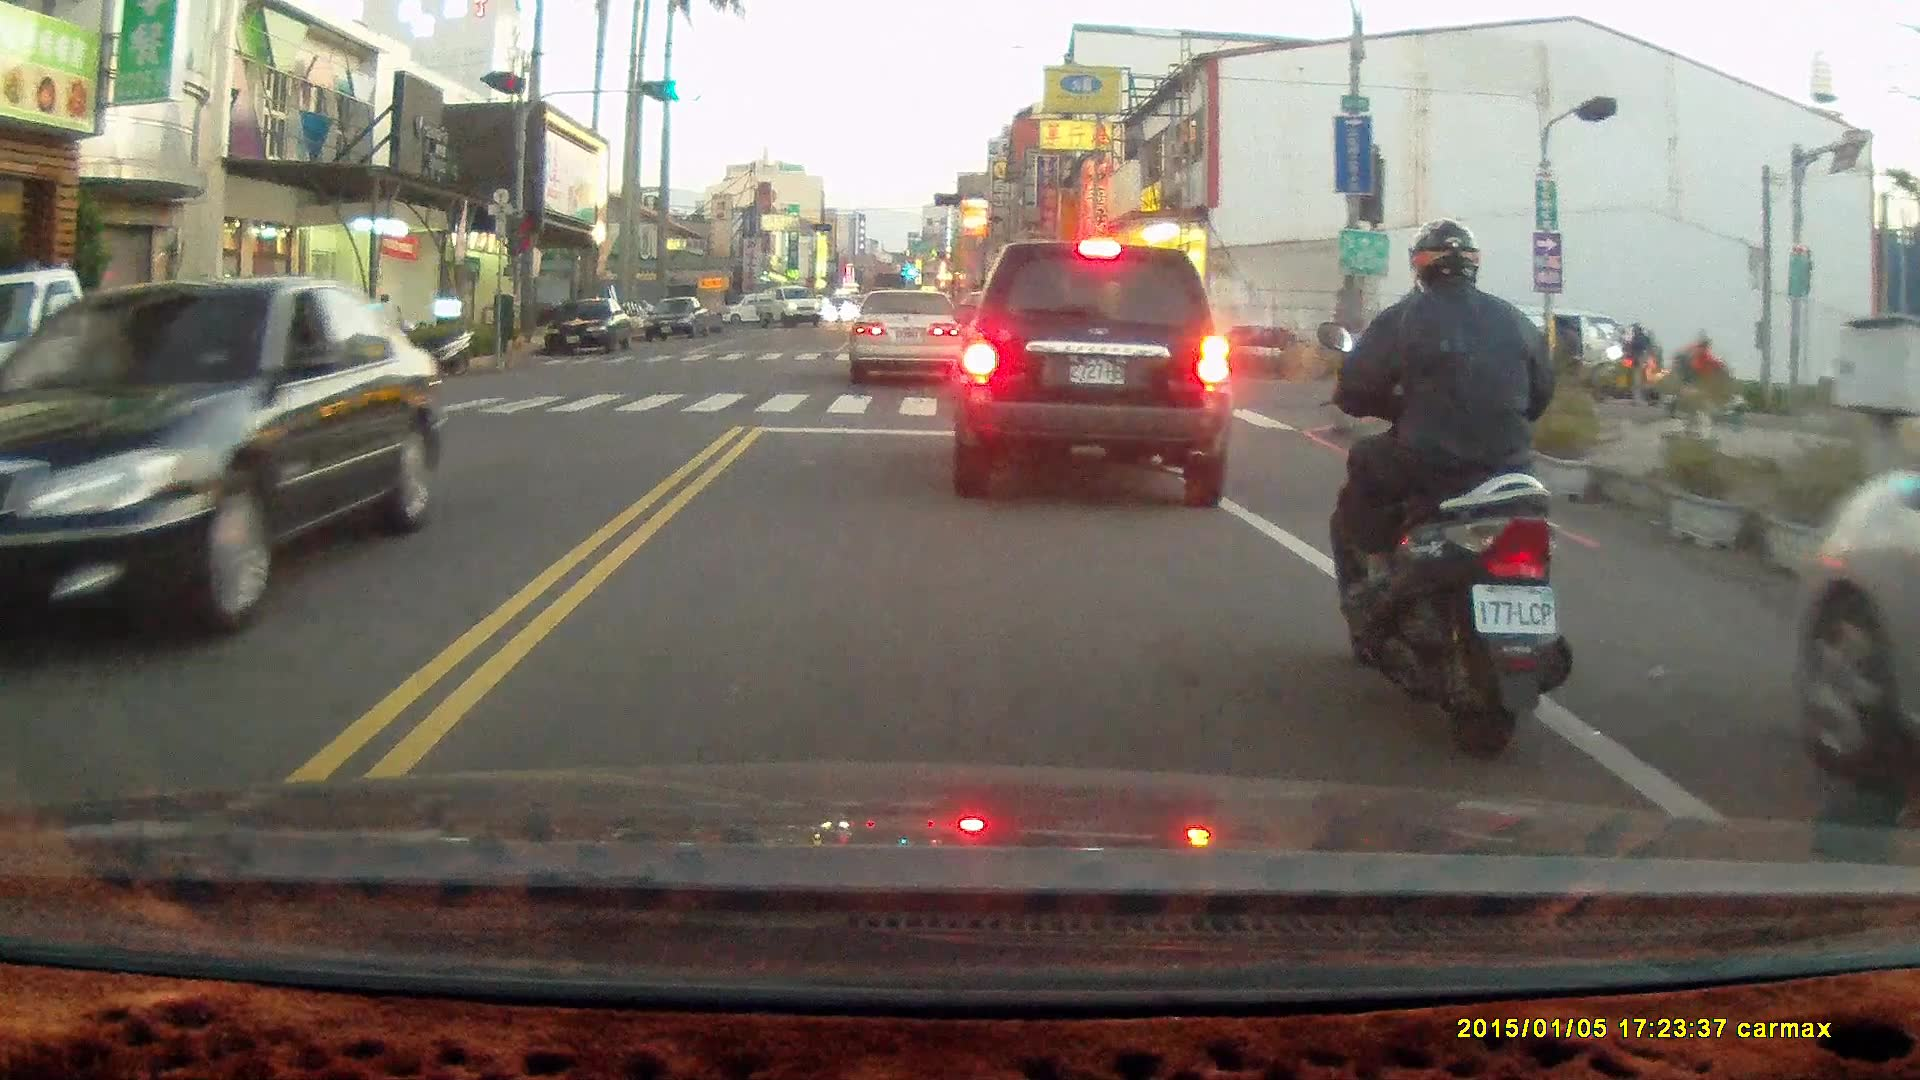pedestrian: (1557, 319, 1580, 386)
rider: (1317, 213, 1578, 757), (1664, 330, 1750, 427), (1597, 316, 1667, 404)
vehicle: (1, 276, 453, 650), (954, 236, 1234, 506), (1798, 455, 1920, 806), (853, 290, 965, 387), (546, 298, 639, 354), (643, 296, 710, 343)
